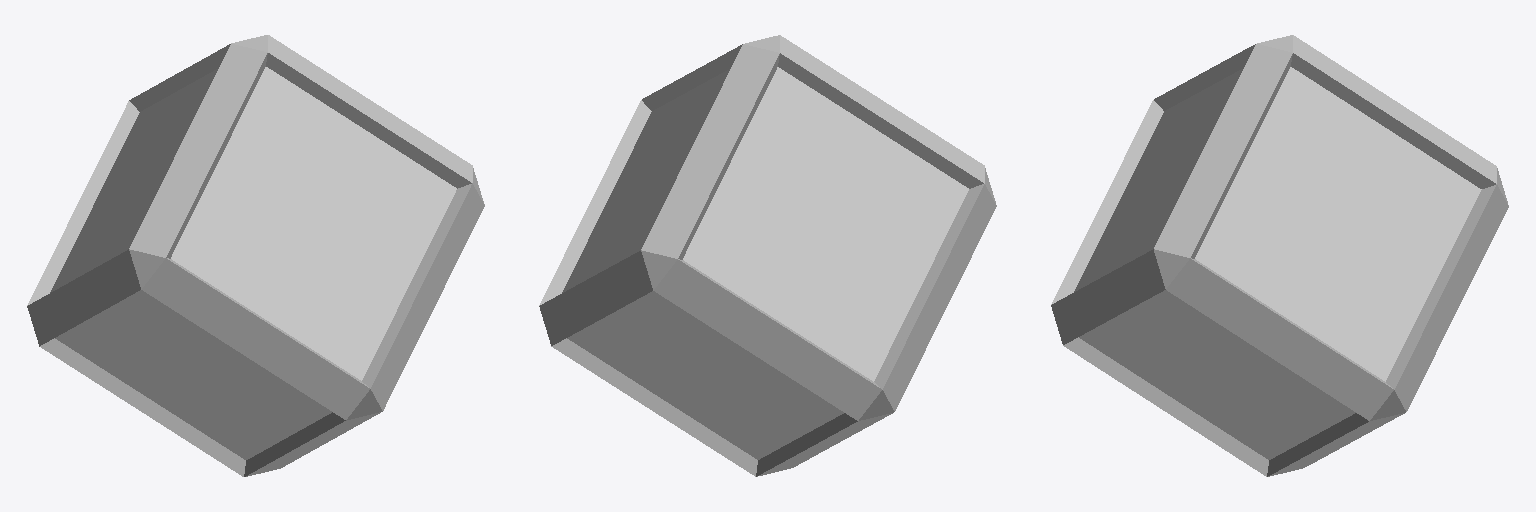
Rendered from Powerup.obj.
3 views of the same model, side by side, from view 1: azimuth 30°, elevation 25°; view 2: azimuth 150°, elevation 25°; view 3: azimuth 270°, elevation 25° (orthographic).
Parts seen in each view (by area): view 1: Cube; view 2: Cube; view 3: Cube.
Part boxes in pixels (x1,y1,x2,y2): Cube: (27,35,484,476); Cube: (539,35,996,476); Cube: (1051,35,1508,476).
Size of the model in its own units: 2.79 by 3.3 by 3.23.